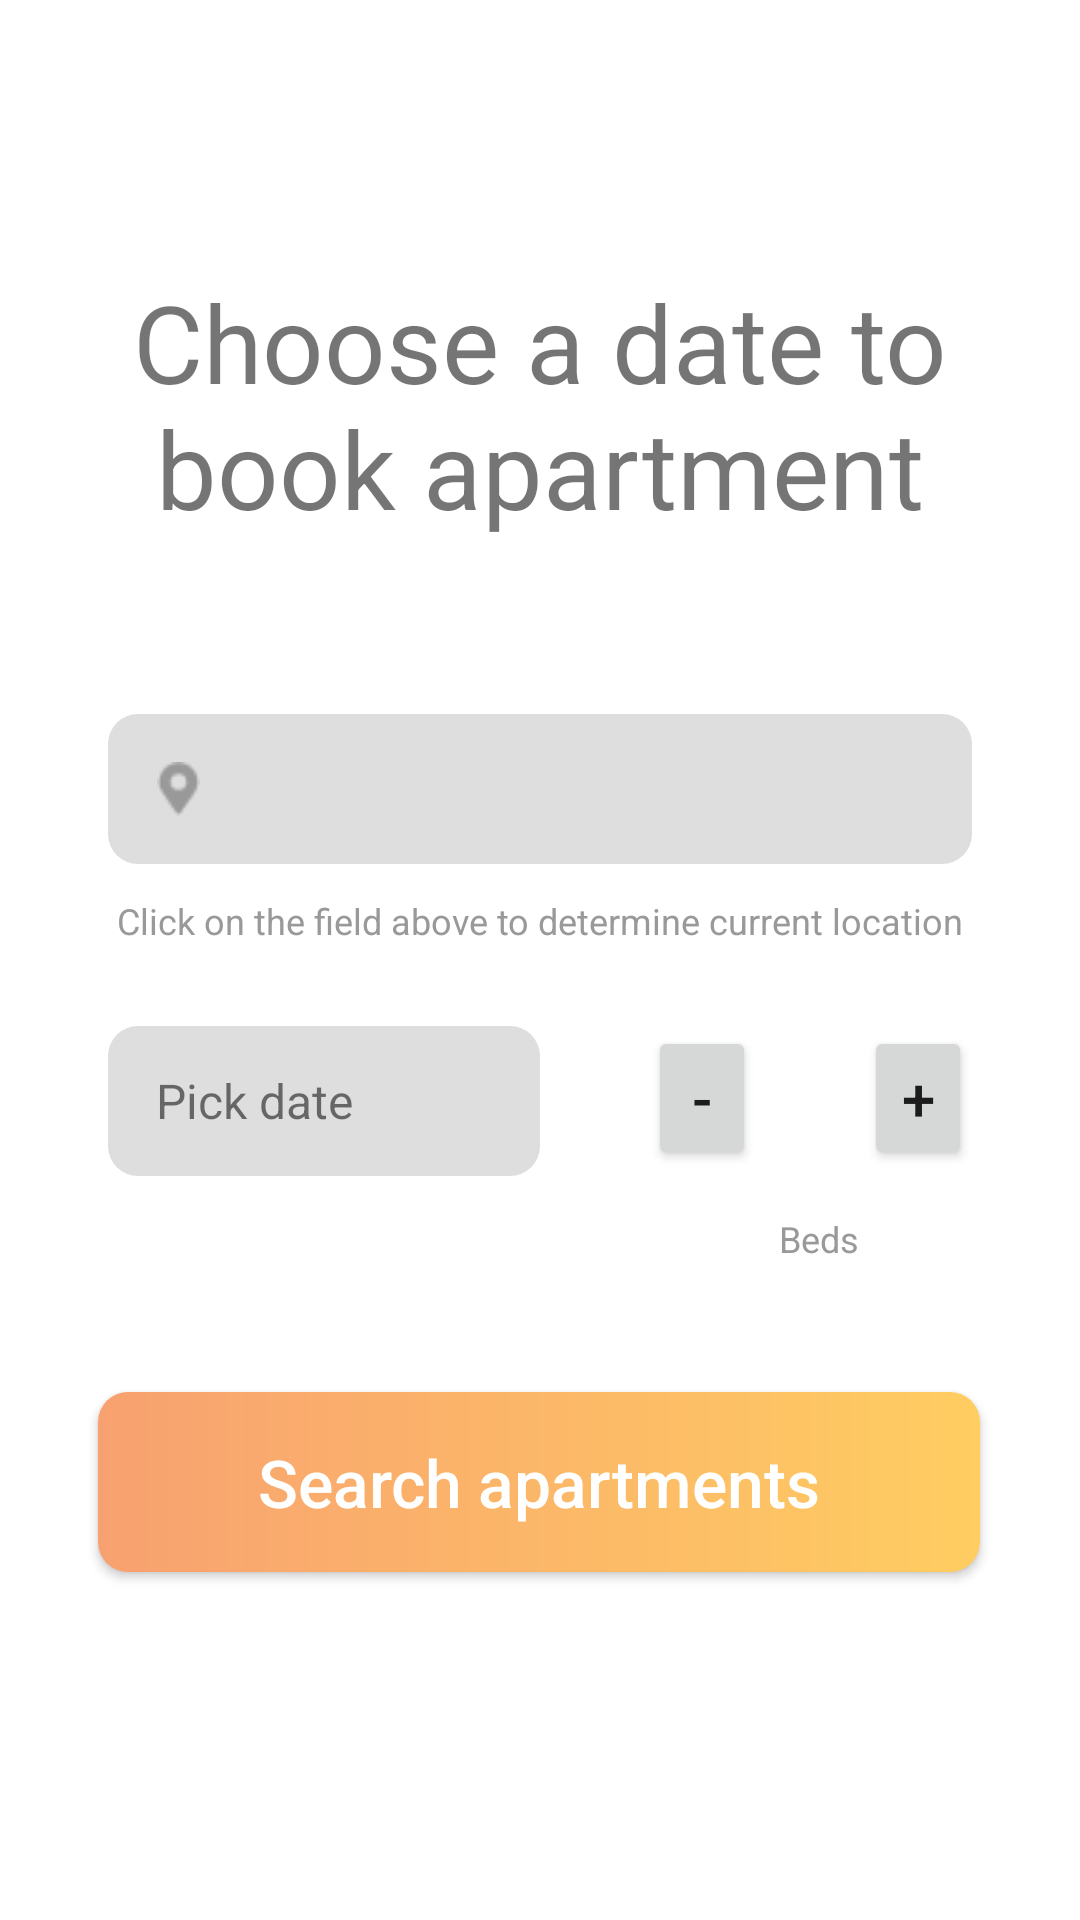

Named icons in this screenshot (1080 x 1920) and their centers, (x=x, y=y):
marker: (x=178, y=788)
